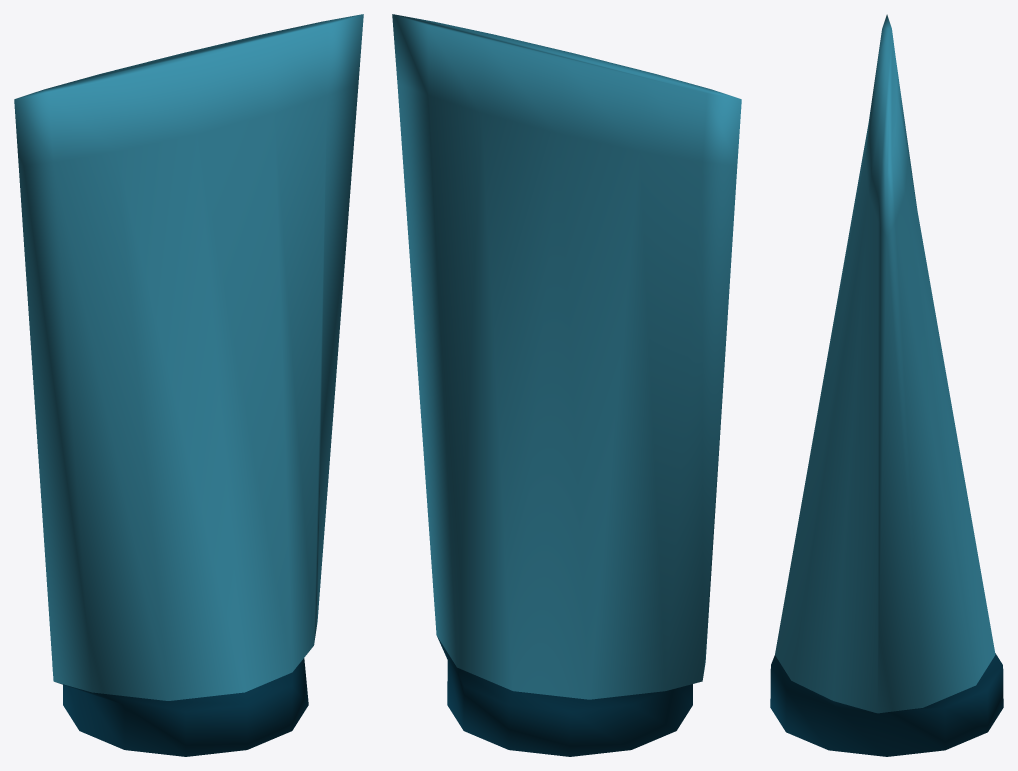
Rendered from Prop_Beauty_10.fbx.
The picture shows the model from 3 angles, left to right: view 1: azimuth 30°, elevation 25°; view 2: azimuth 150°, elevation 25°; view 3: azimuth 270°, elevation 25°; orthographic projection. The views are drawn at different scales.
Parts seen in each view (by area): view 1: Prop_Beauty_10; view 2: Prop_Beauty_10; view 3: Prop_Beauty_10.
Boxes of the visible parts, bbox=[...] form: Prop_Beauty_10: bbox=[14, 14, 363, 756]; Prop_Beauty_10: bbox=[392, 14, 741, 756]; Prop_Beauty_10: bbox=[770, 14, 1003, 756].
Bounding box in the file's own units: 10.47 × 18.53 × 6.37.
